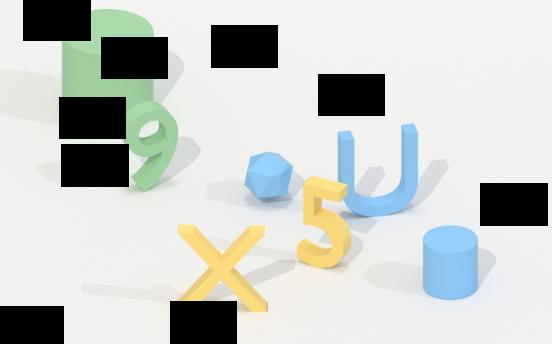5: (295, 175, 357, 268)
9: (119, 95, 185, 194)
dagiac: (240, 145, 299, 203)
tru: (58, 6, 162, 137), (419, 224, 483, 304)
u: (328, 124, 431, 219)
x: (175, 225, 276, 322)
